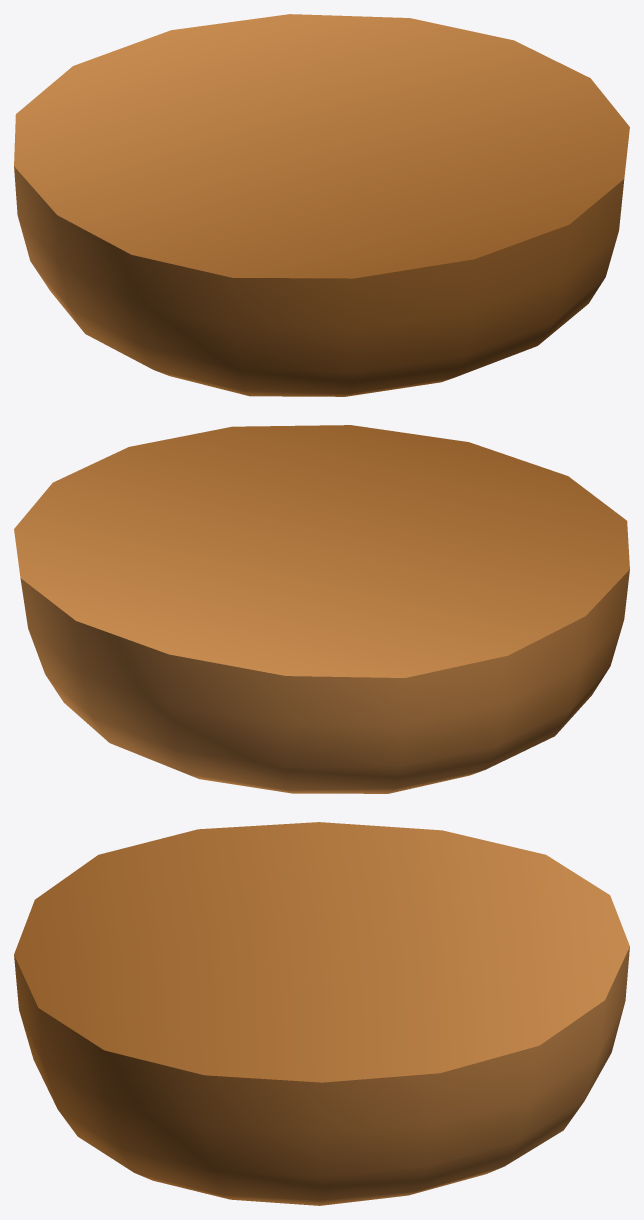
Rendered from Bread_1 Small Half_2.fbx.
3 views of the same model, one above another, from view 1: azimuth 30°, elevation 25°; view 2: azimuth 150°, elevation 25°; view 3: azimuth 270°, elevation 25° (orthographic). The views are drawn at different scales.
Parts seen in each view (by area): view 1: Bread_1 Small Half_2; view 2: Bread_1 Small Half_2; view 3: Bread_1 Small Half_2.
Part boxes in pixels (box(x1,y1,x2,y2)): Bread_1 Small Half_2: box(14, 14, 629, 396); Bread_1 Small Half_2: box(14, 425, 629, 793); Bread_1 Small Half_2: box(14, 822, 629, 1205).
Size of the model in its own units: 0.1149 by 0.0315 by 0.1125.
1 material, 1 textured.
